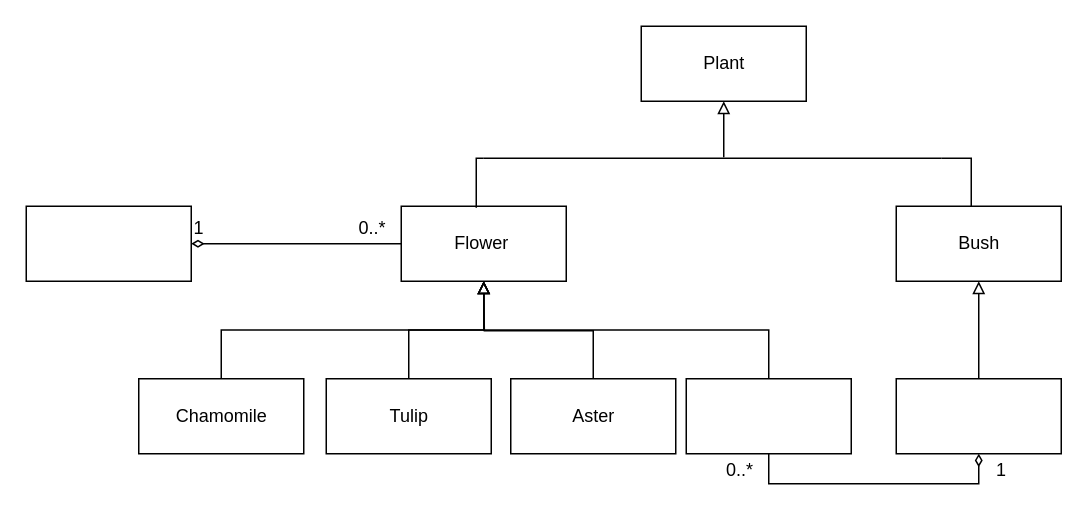
Some shapes in this 1088 by 530 pixel diagram are drawn without their labels. Each missing label, with the centre of its shape:
"Bouquet" belongs at [108,243].
"Rose" belongs at [768,415].
"RoseBush" belongs at [978,415].
